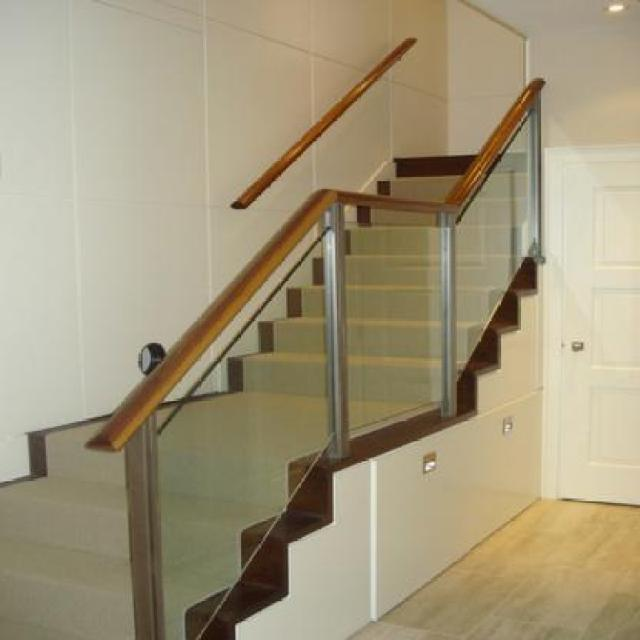stair: (42, 116, 561, 639)
